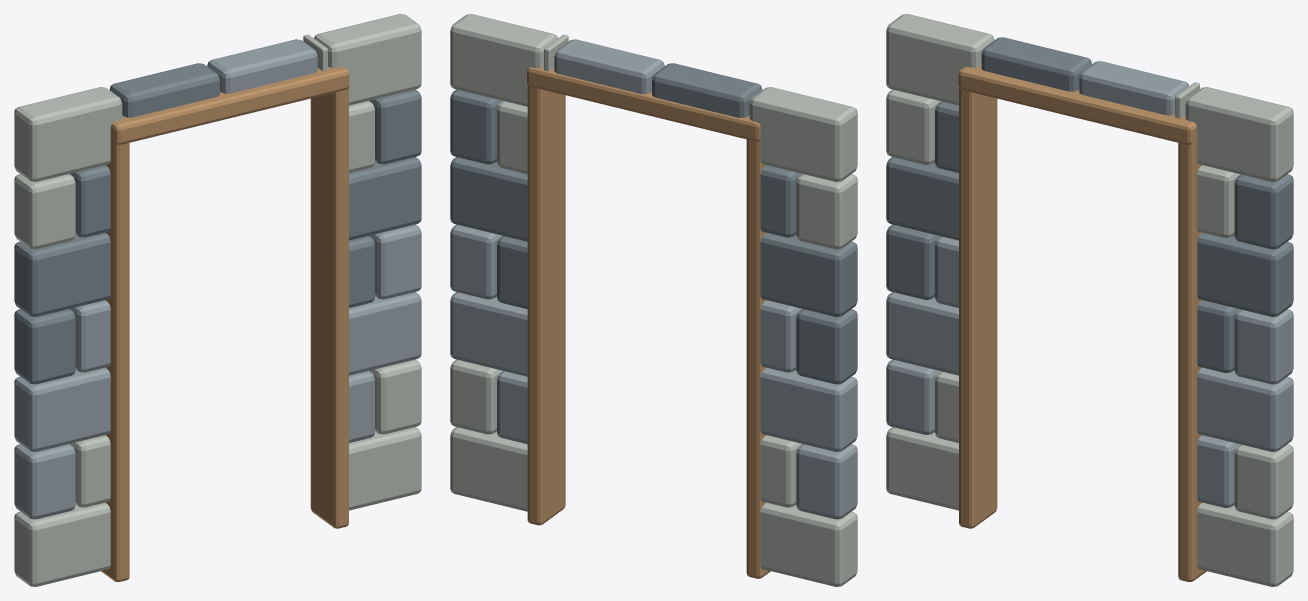
The model's file is wall_door_stone_2m.glb.
3 renders of one model, left to right at view 1: azimuth 30°, elevation 25°; view 2: azimuth 150°, elevation 25°; view 3: azimuth 330°, elevation 25°, orthographic.
Visible parts, largest first — view 1: wall_door_stone_2m; view 2: wall_door_stone_2m; view 3: wall_door_stone_2m.
Boxes of the visible parts, box(x1,y1,x2,y2) form: wall_door_stone_2m: box(14, 14, 421, 586); wall_door_stone_2m: box(450, 14, 857, 586); wall_door_stone_2m: box(886, 14, 1293, 586).
Bounding box in the file's own units: 1.81 × 2.11 × 0.22.
